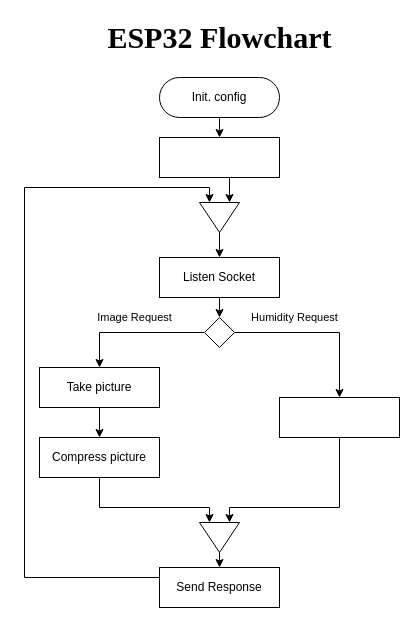
The diagram is 417 pixels wide and 625 high, and some of its shapes have lost their labels. The box of each missing label's shape, as (x1, y1, x2, y2) in pixels:
connect to wifi: (158, 136, 280, 178)
Get analog value: (278, 396, 400, 438)
